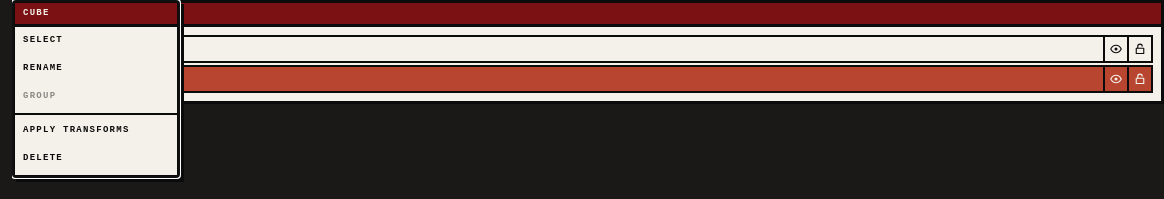
it: Outliner › row menu › selects the object it was opened on
Step 1. Click the menu item "SELECT" → click(96, 41), box [15,27,177,55]
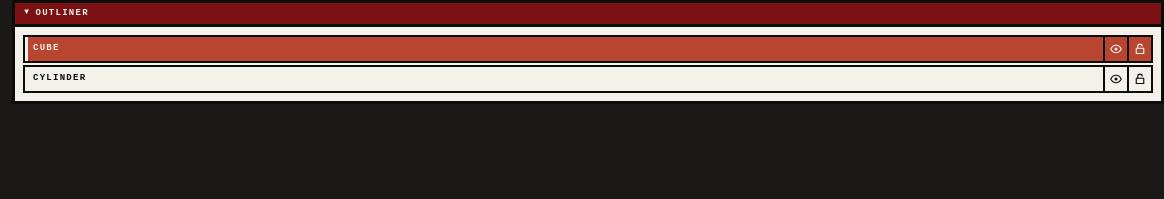
Expected: the menu is gone
